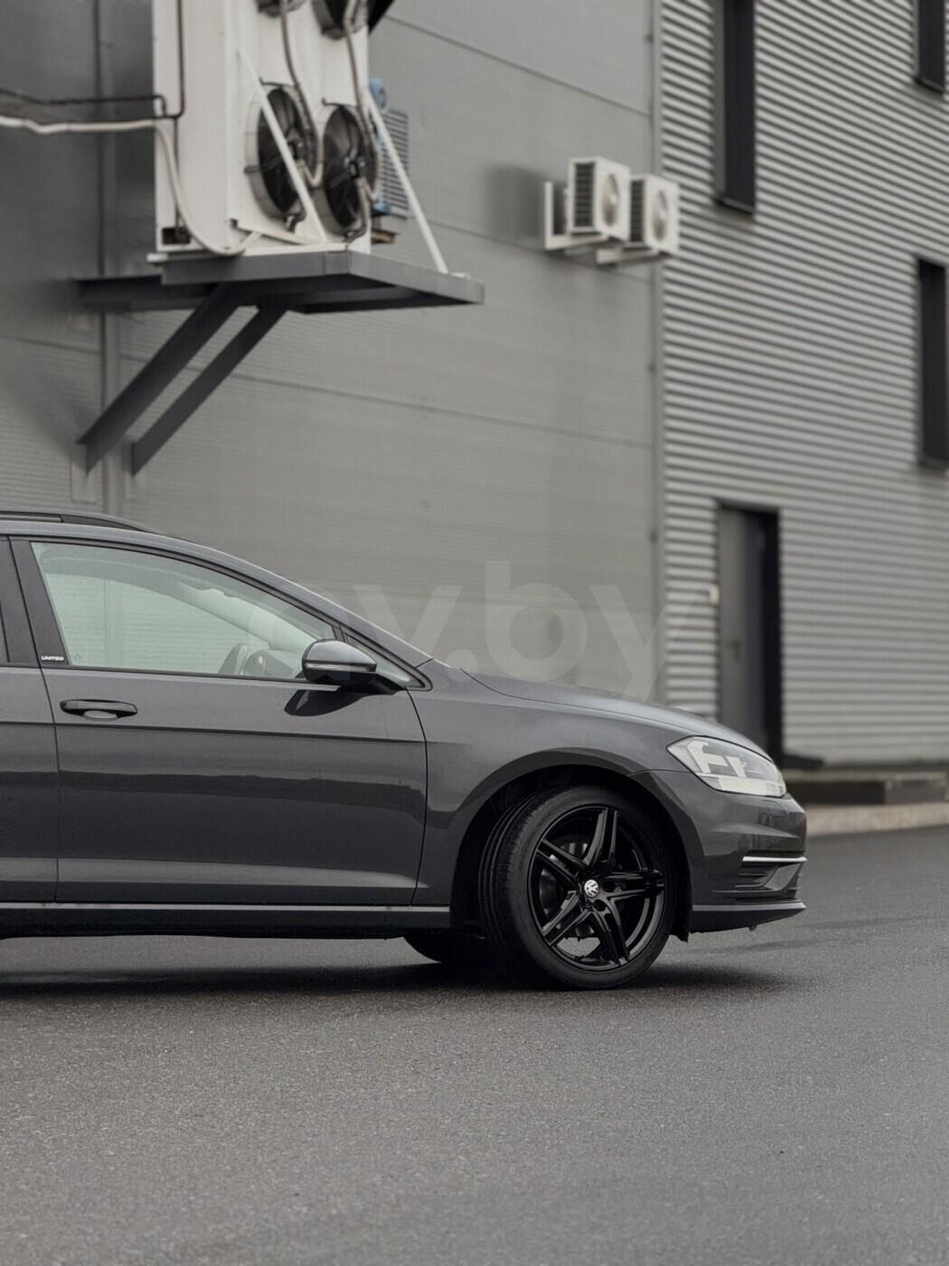Golf_2017-2021: (0, 491, 811, 995)
